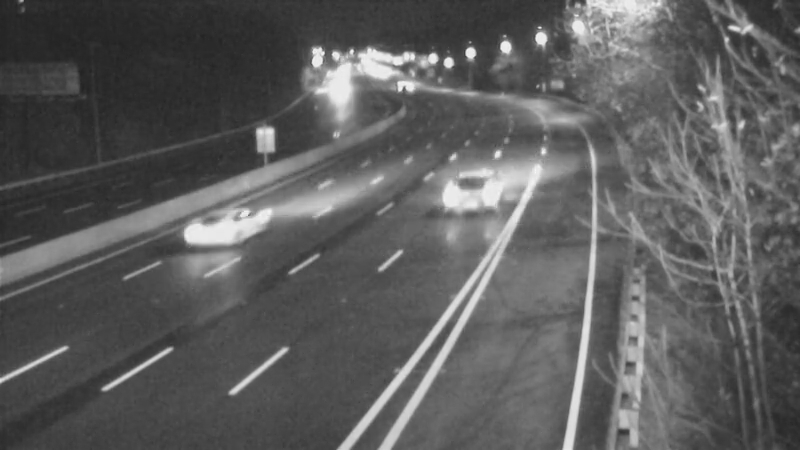vehicle: (427, 164, 507, 244), (168, 181, 248, 261), (378, 65, 428, 115), (310, 68, 360, 118)
